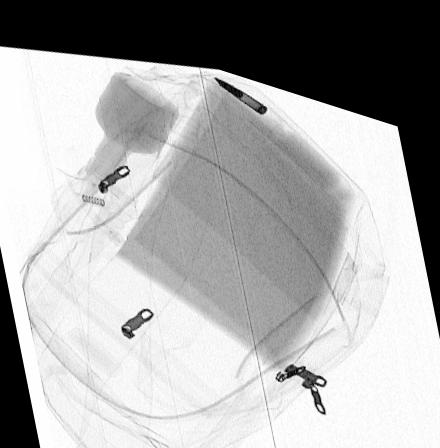Bullet: (210, 63, 268, 99)
